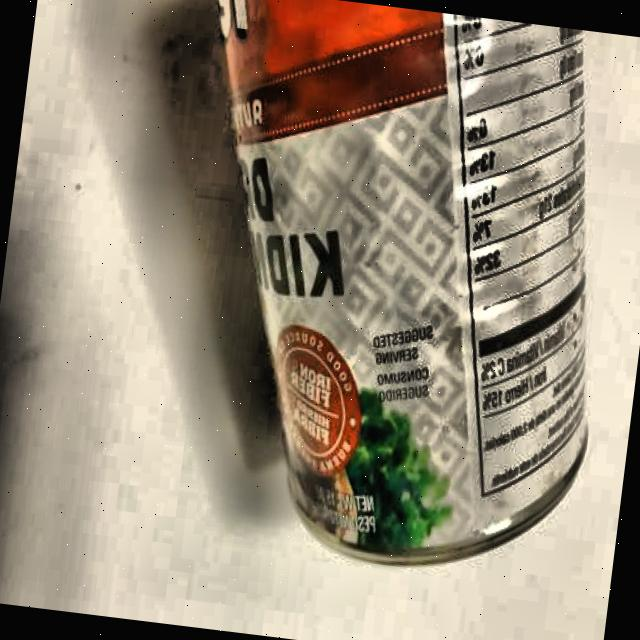metal: (178, 0, 614, 565)
